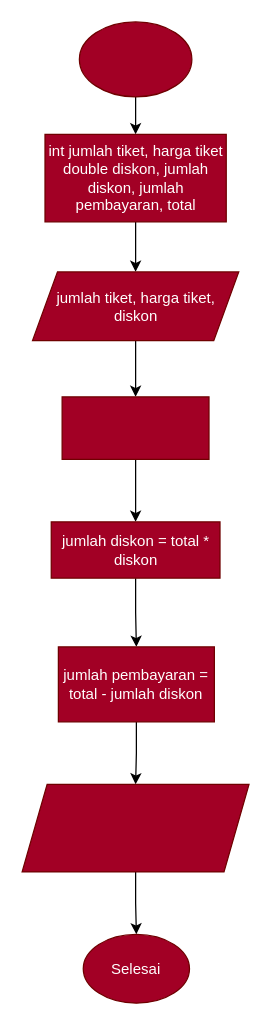
The diagram is 271 pixels wide and 1025 high, and some of its shapes have lost their labels. The centre of each missing label's shape, as x and y in pixels:
"Mulai" belongs at [135,59].
"tampilkan diskon yang di dapatkan dan jumlah yang dibayarkan" belongs at [135,827].
"total = harga tiket * jumlah tiket" belongs at [135,427].
